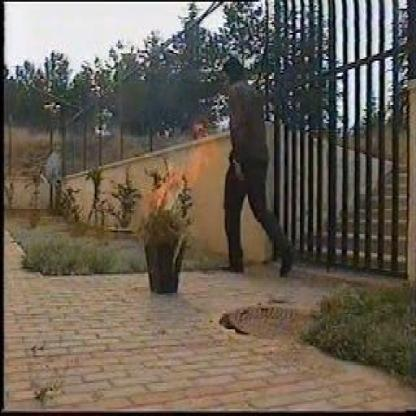foggia-v2-map80-epoch100 - v1 4323: (160, 140, 209, 202)
